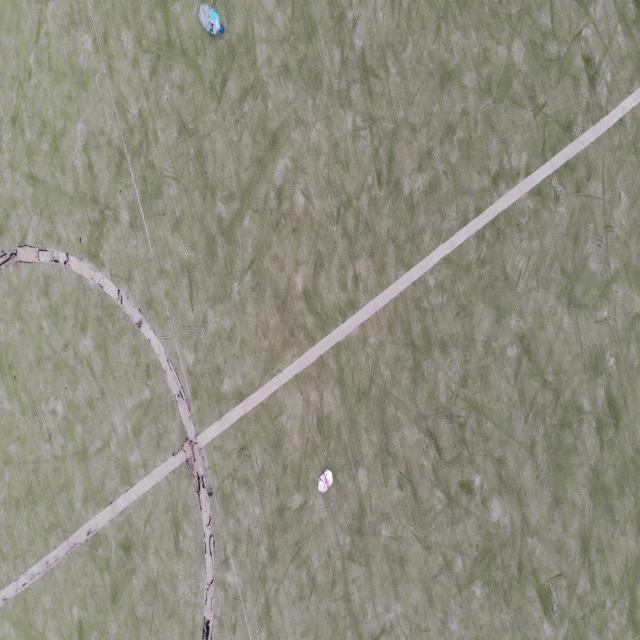rubbish: (196, 0, 226, 37), (318, 469, 333, 495)
